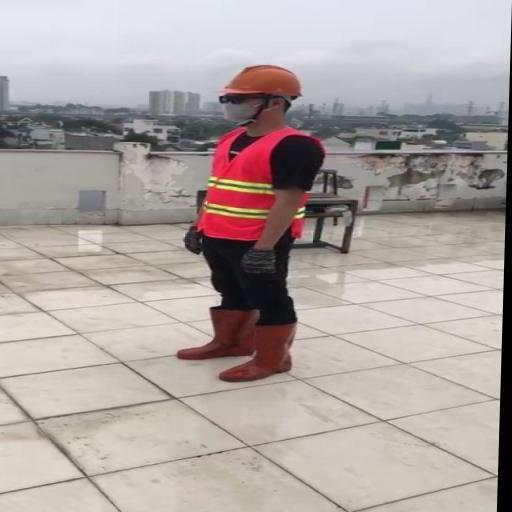safety_boots: (218, 321, 308, 401), (170, 300, 263, 358)
